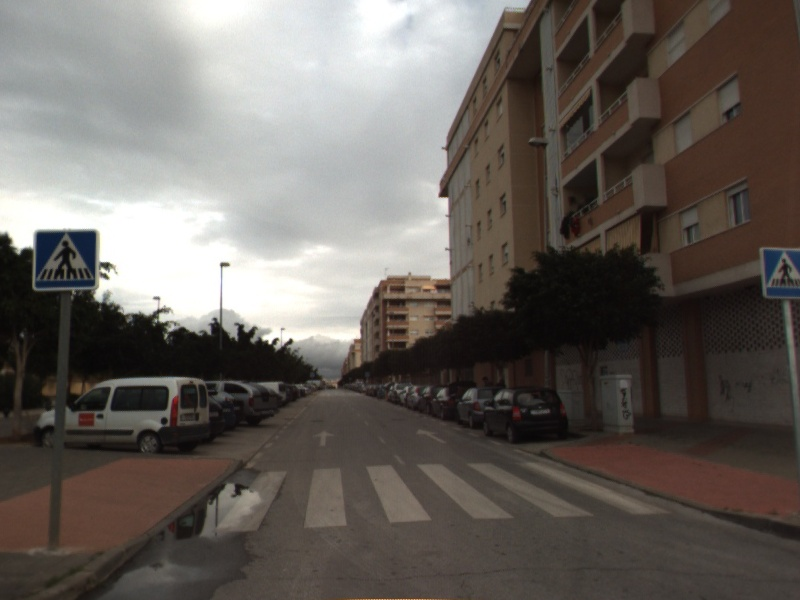STRAIGHT: (414, 427, 449, 445), (311, 428, 337, 448)
